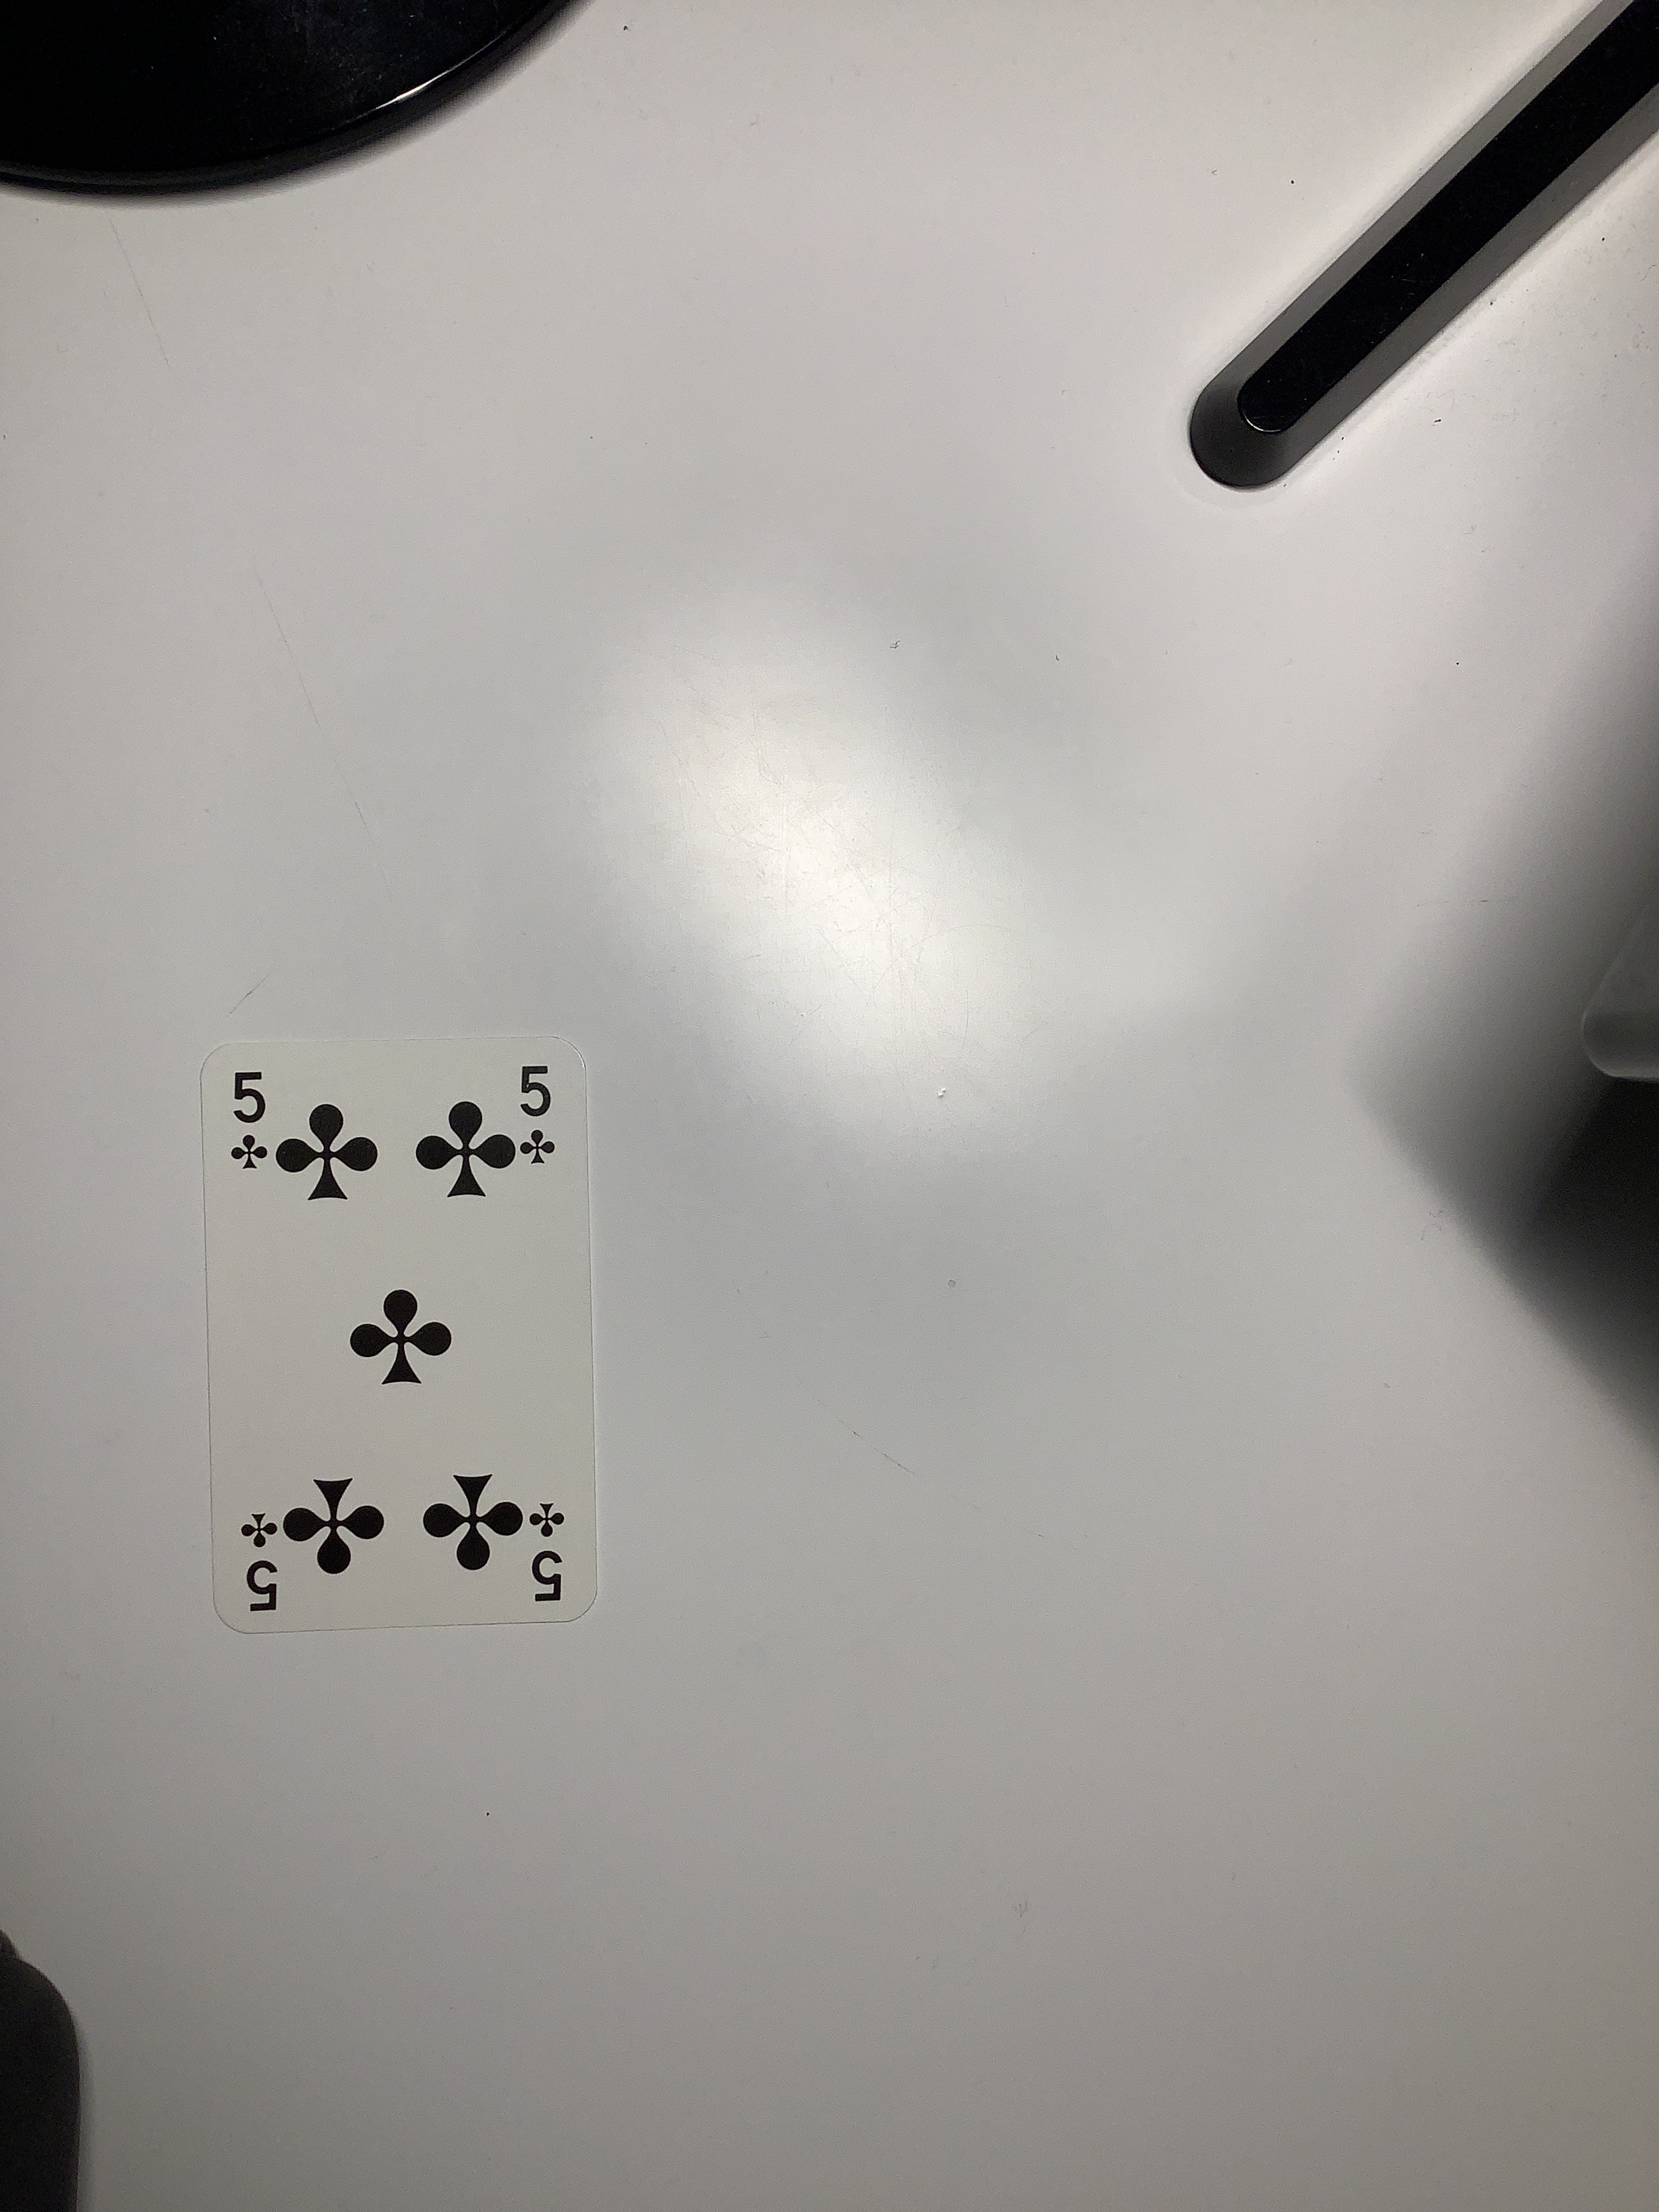♣ 5: (166, 1031, 619, 1655)
